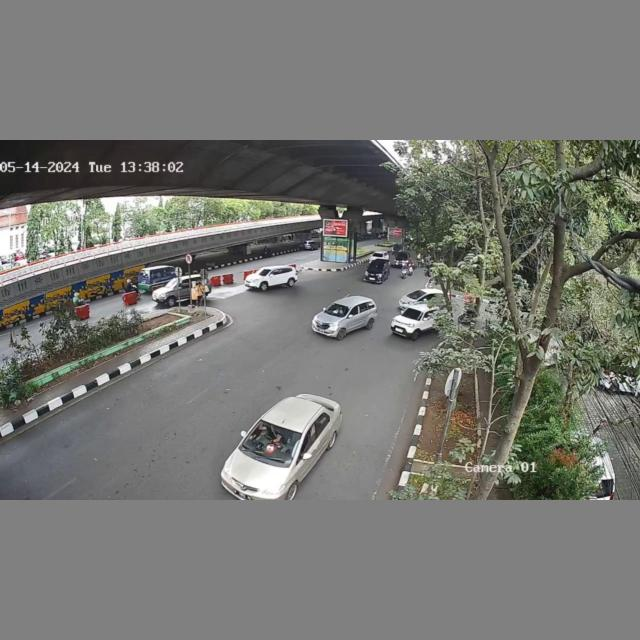windshield: (244, 420, 301, 463), (323, 302, 352, 317), (402, 307, 423, 322)
